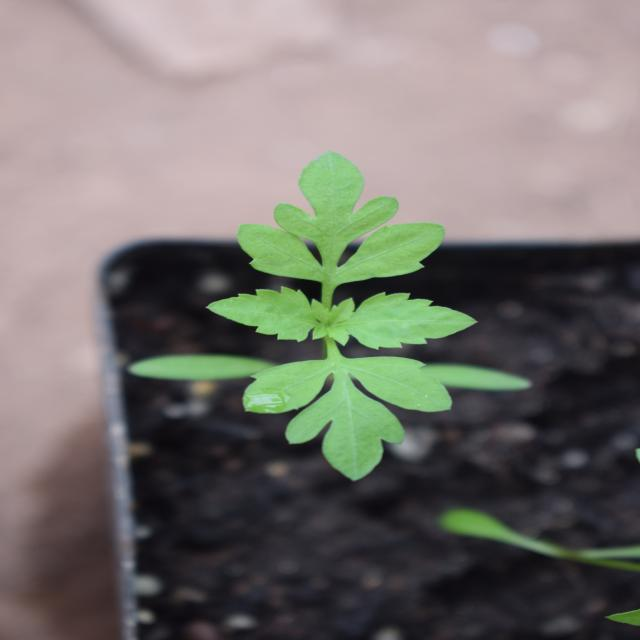Bidens pilosa: (157, 190, 490, 488)
